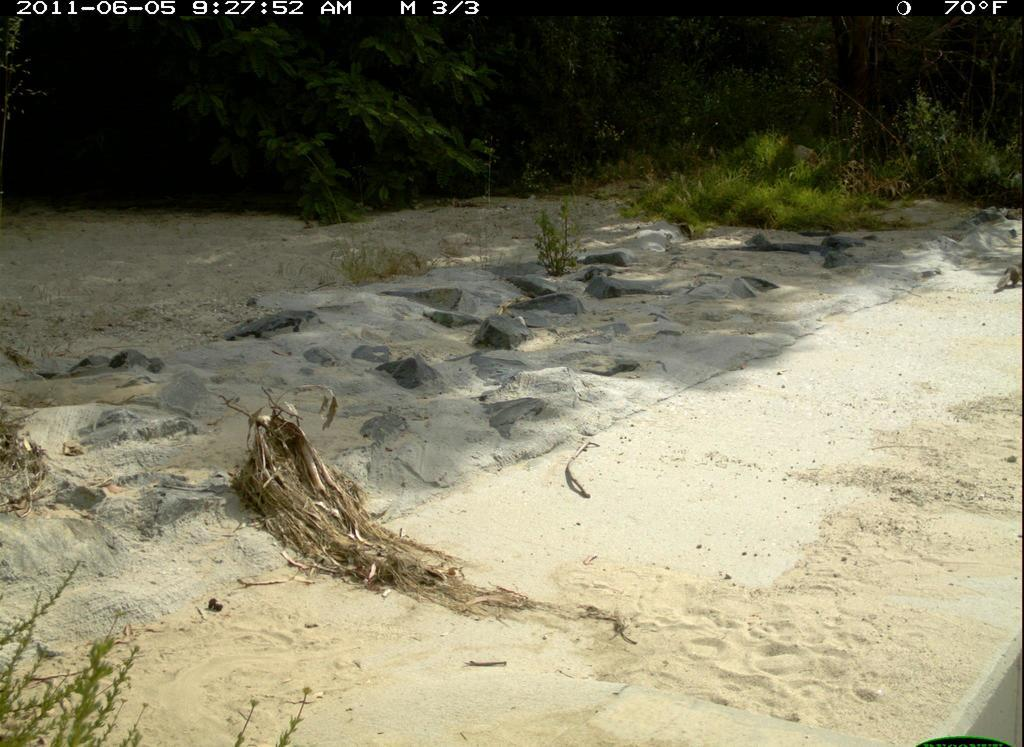squirrel: (986, 251, 1024, 297)
